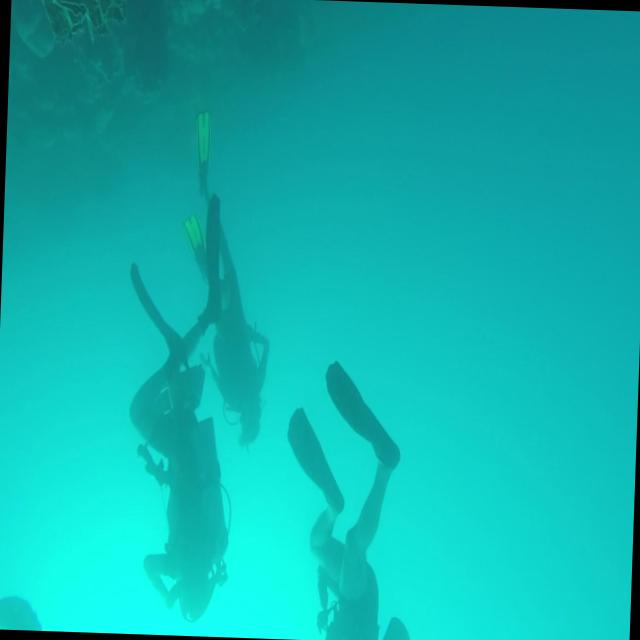human: (117, 262, 239, 624), (278, 359, 419, 640), (178, 110, 278, 451)
